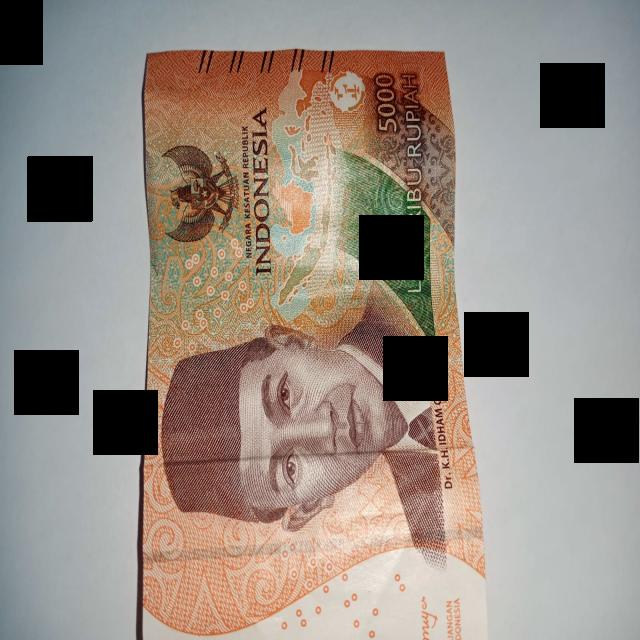lima ribu rupiah: (138, 48, 488, 638)
